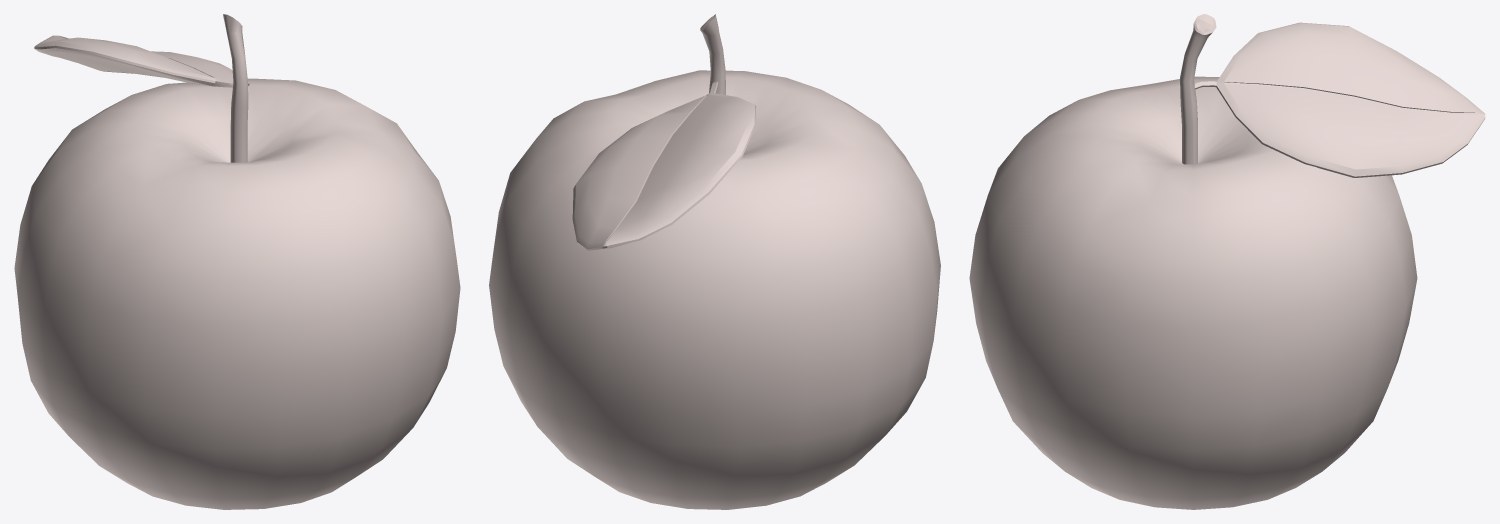
The model's file is Apple.fbx.
3 views of the same model, side by side, from view 1: azimuth 30°, elevation 25°; view 2: azimuth 150°, elevation 25°; view 3: azimuth 270°, elevation 25° (orthographic).
Visible parts, largest first — view 1: pCylinder2; view 2: pCylinder2; view 3: pCylinder2.
Boxes of the visible parts, bbox=[...] form: pCylinder2: bbox=[14, 14, 460, 509]; pCylinder2: bbox=[489, 14, 940, 509]; pCylinder2: bbox=[969, 14, 1485, 509].
Bounding box in the file's own units: 1.9 × 2.17 × 2.19.
